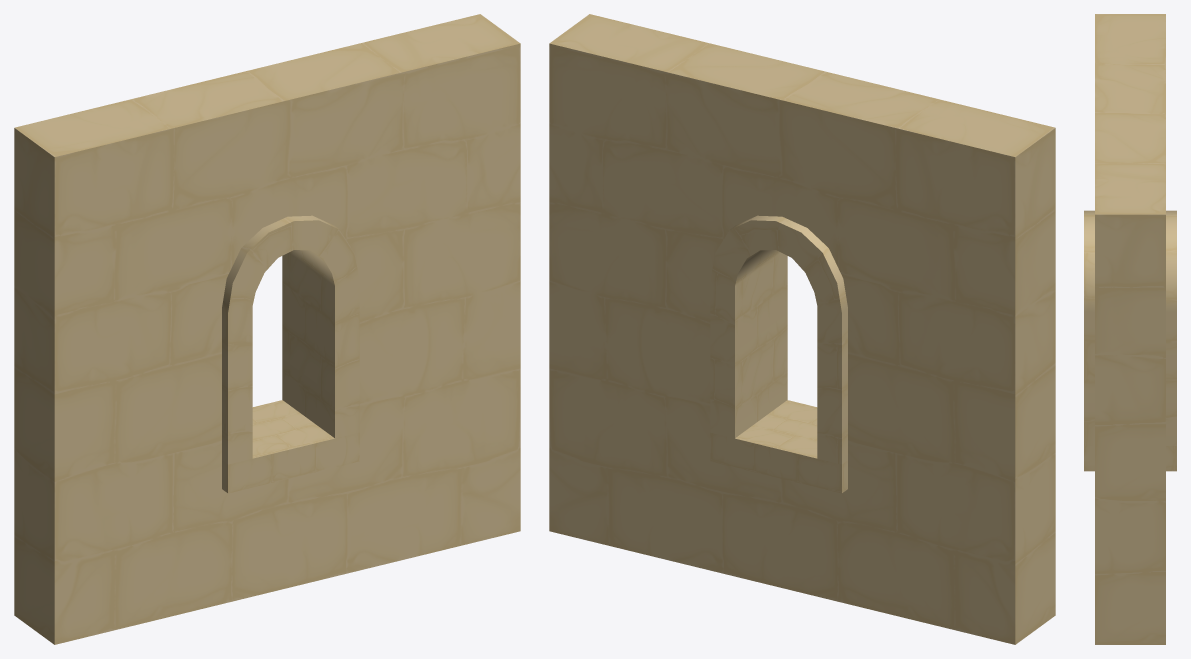
The model's file is Wall3.fbx.
3 views of the same model, side by side, from view 1: azimuth 30°, elevation 25°; view 2: azimuth 150°, elevation 25°; view 3: azimuth 270°, elevation 25° (orthographic). The views are drawn at different scales.
Visible parts, largest first — view 1: pCube34; view 2: pCube34; view 3: pCube34.
Part boxes in pixels (x1,y1,x2,y2): pCube34: (14, 14, 520, 644); pCube34: (549, 14, 1055, 644); pCube34: (1084, 14, 1176, 644).
Bounding box in the file's own units: 2 × 2 × 0.3914.
Materials: 1 (1 with a texture image).
